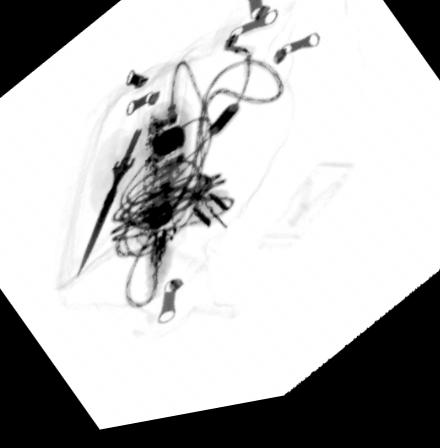Scissors: (77, 111, 166, 280)
